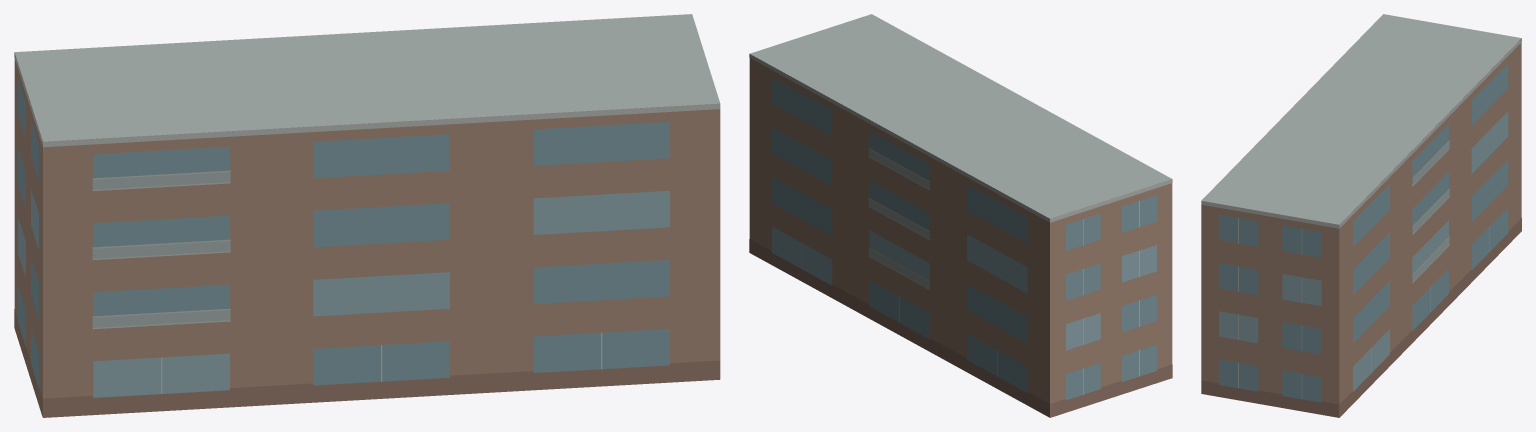
File: residential-ddb1a7dd-aee4-4bb3-bd31-36f4fadd0ec0.glb
3 renders of one model, left to right at view 1: azimuth 30°, elevation 25°; view 2: azimuth 150°, elevation 25°; view 3: azimuth 270°, elevation 25°, orthographic. The views are drawn at different scales.
Visible parts, largest first — view 1: residential-ddb1a7dd-aee4-4bb3-bd31-36f4fadd0ec0.tmp; view 2: residential-ddb1a7dd-aee4-4bb3-bd31-36f4fadd0ec0.tmp; view 3: residential-ddb1a7dd-aee4-4bb3-bd31-36f4fadd0ec0.tmp.
Part boxes in pixels (<box>): residential-ddb1a7dd-aee4-4bb3-bd31-36f4fadd0ec0.tmp: <box>14,14,720,417</box>; residential-ddb1a7dd-aee4-4bb3-bd31-36f4fadd0ec0.tmp: <box>749,14,1172,417</box>; residential-ddb1a7dd-aee4-4bb3-bd31-36f4fadd0ec0.tmp: <box>1201,14,1521,417</box>.
Size of the model in its own units: 28.58 by 12.2 by 18.37.
